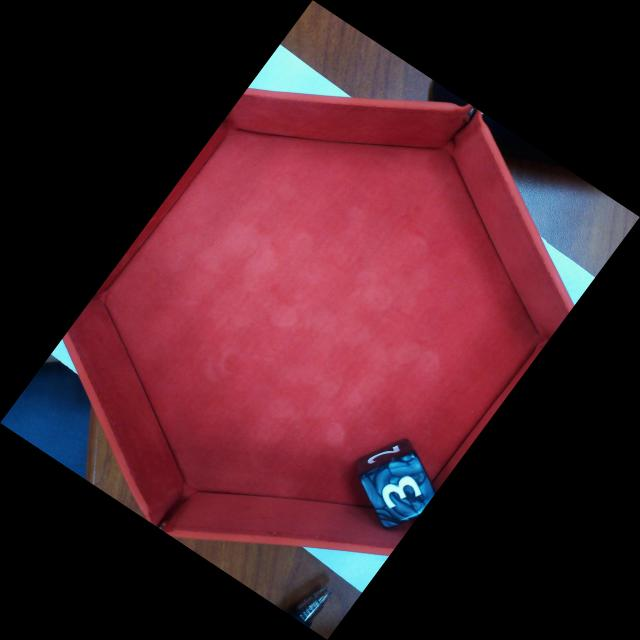dice: (373, 457, 437, 523)
